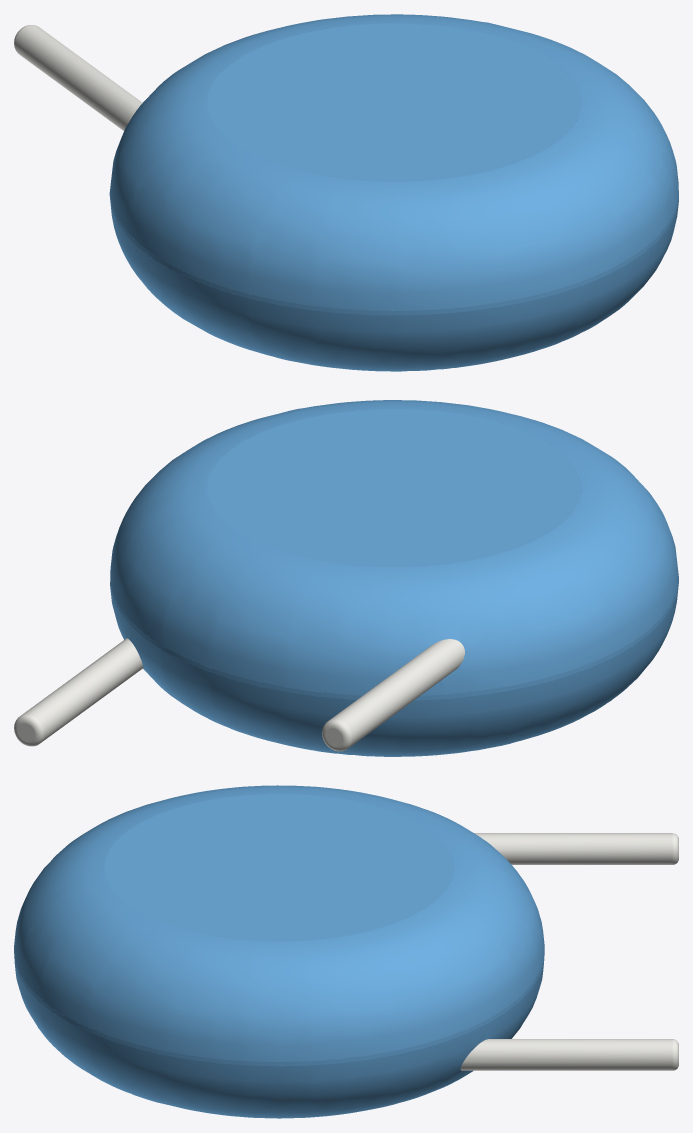
File: RV_Disc_D12mm_W4.2mm_P7.5mm.glb
3 views of the same model, one above another, from view 1: azimuth 30°, elevation 25°; view 2: azimuth 150°, elevation 25°; view 3: azimuth 270°, elevation 25° (orthographic). The views are drawn at different scales.
Visible parts, largest first — view 1: Shape_IndexedFaceSet.001, Shape_IndexedFaceSet.003, Shape_IndexedFaceSet.002, Shape_IndexedFaceSet.004, Shape_IndexedFaceSet; view 2: Shape_IndexedFaceSet.001, Shape_IndexedFaceSet.003, Shape_IndexedFaceSet.002, Shape_IndexedFaceSet.004, Shape_IndexedFaceSet.006, Shape_IndexedFaceSet, Shape_IndexedFaceSet.007, Shape_IndexedFaceSet.008; view 3: Shape_IndexedFaceSet.001, Shape_IndexedFaceSet.003, Shape_IndexedFaceSet.002, Shape_IndexedFaceSet.006, Shape_IndexedFaceSet.004, Shape_IndexedFaceSet.
Boxes of the visible parts, x1,y1,x2,y2 form: Shape_IndexedFaceSet.001: [110, 14, 678, 310]; Shape_IndexedFaceSet.003: [207, 23, 581, 181]; Shape_IndexedFaceSet.002: [110, 199, 678, 371]; Shape_IndexedFaceSet.004: [15, 25, 142, 130]; Shape_IndexedFaceSet: [109, 192, 678, 315]; Shape_IndexedFaceSet.001: [110, 400, 678, 695]; Shape_IndexedFaceSet.003: [207, 409, 581, 567]; Shape_IndexedFaceSet.002: [110, 583, 678, 756]; Shape_IndexedFaceSet.004: [329, 639, 464, 747]; Shape_IndexedFaceSet.006: [21, 638, 143, 742]; Shape_IndexedFaceSet: [110, 578, 678, 700]; Shape_IndexedFaceSet.007: [322, 719, 352, 751]; Shape_IndexedFaceSet.008: [14, 714, 44, 746]; Shape_IndexedFaceSet.001: [14, 785, 544, 1061]; Shape_IndexedFaceSet.003: [104, 794, 453, 941]; Shape_IndexedFaceSet.002: [15, 964, 543, 1118]; Shape_IndexedFaceSet.006: [460, 1039, 672, 1070]; Shape_IndexedFaceSet.004: [474, 833, 672, 864]; Shape_IndexedFaceSet: [14, 949, 544, 1066].
Bounding box in the file's own units: 4.72 × 1.65 × 5.92.
